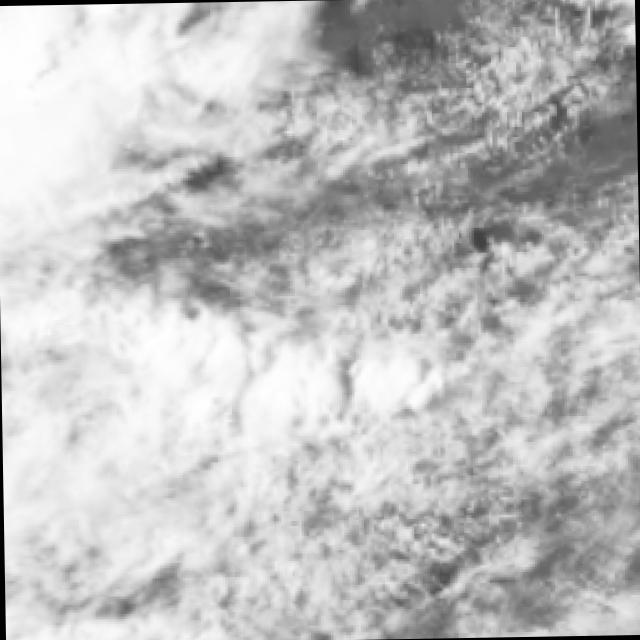CB: (0, 47, 117, 175)
